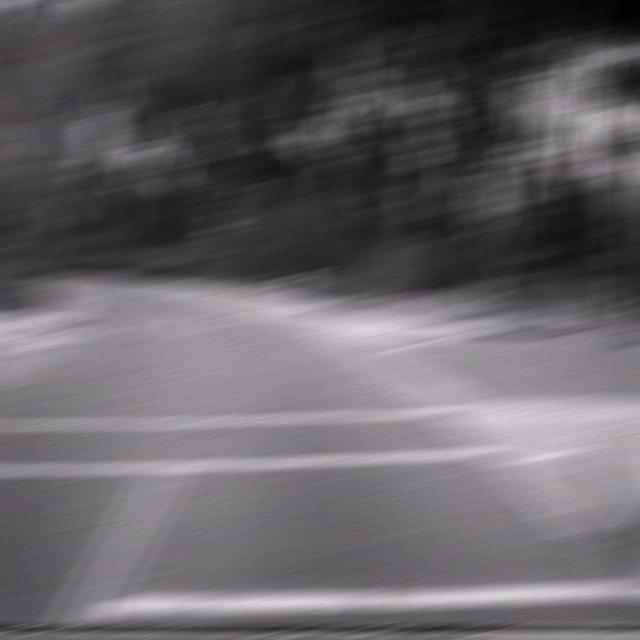stop: (471, 171, 504, 219)
